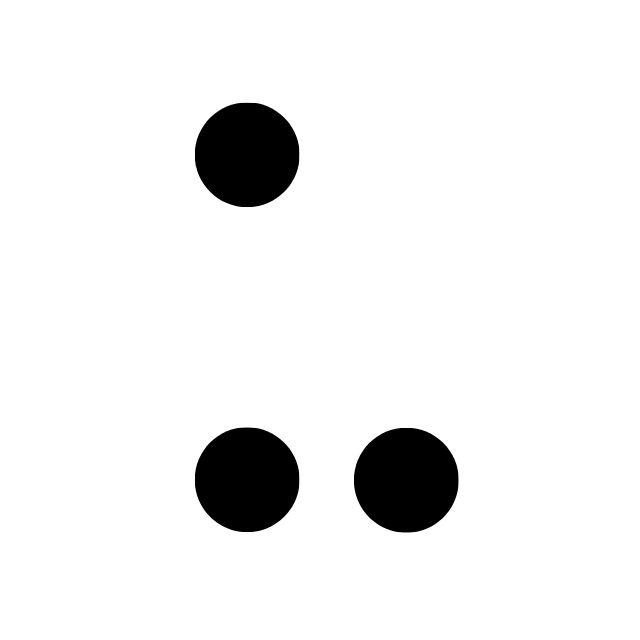upang: (193, 102, 457, 535)
